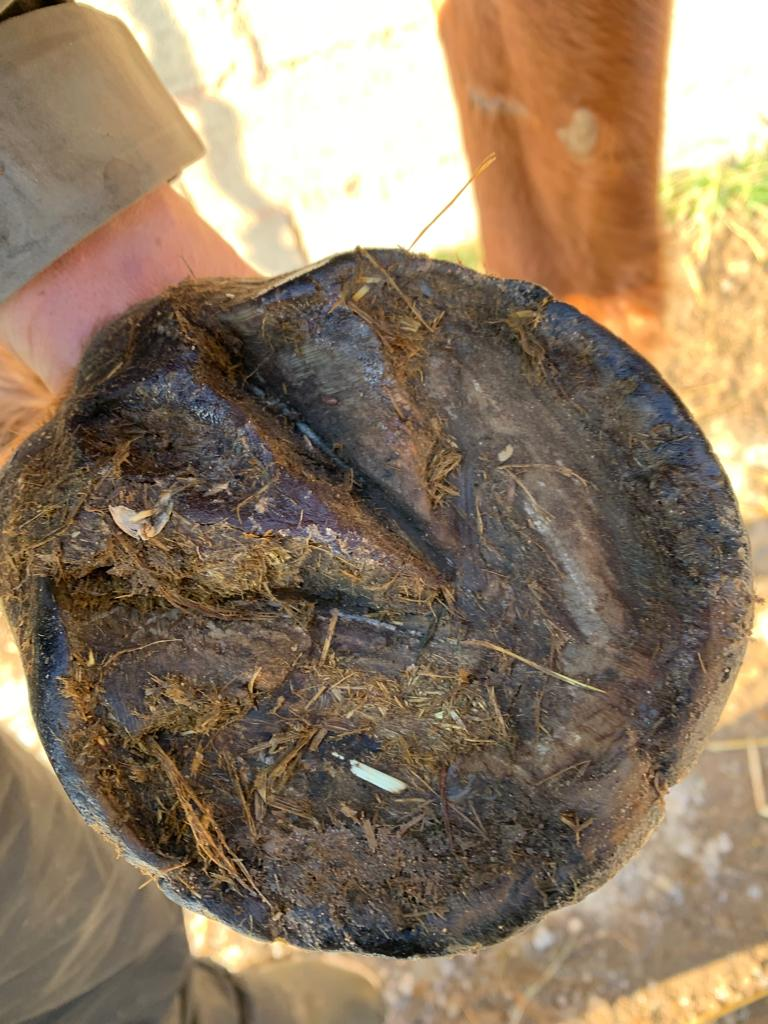horsesole: (26, 250, 754, 959)
